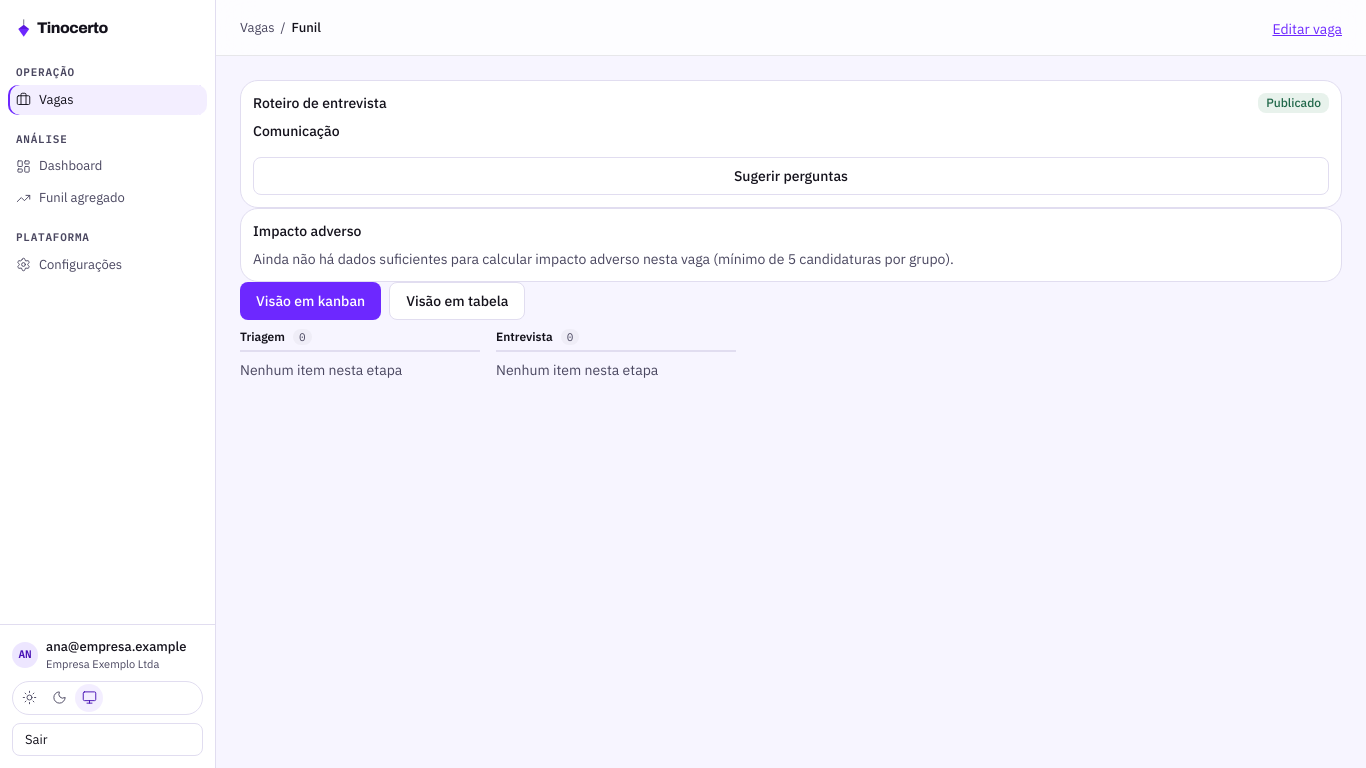
Test: FunilPage › gera e mostra perguntas agrupadas por competencia quando o roteiro esta publicado
Click the button "Sugerir perguntas". click: (791, 176)
box: top-left (253, 157), bottom-right (1329, 195)
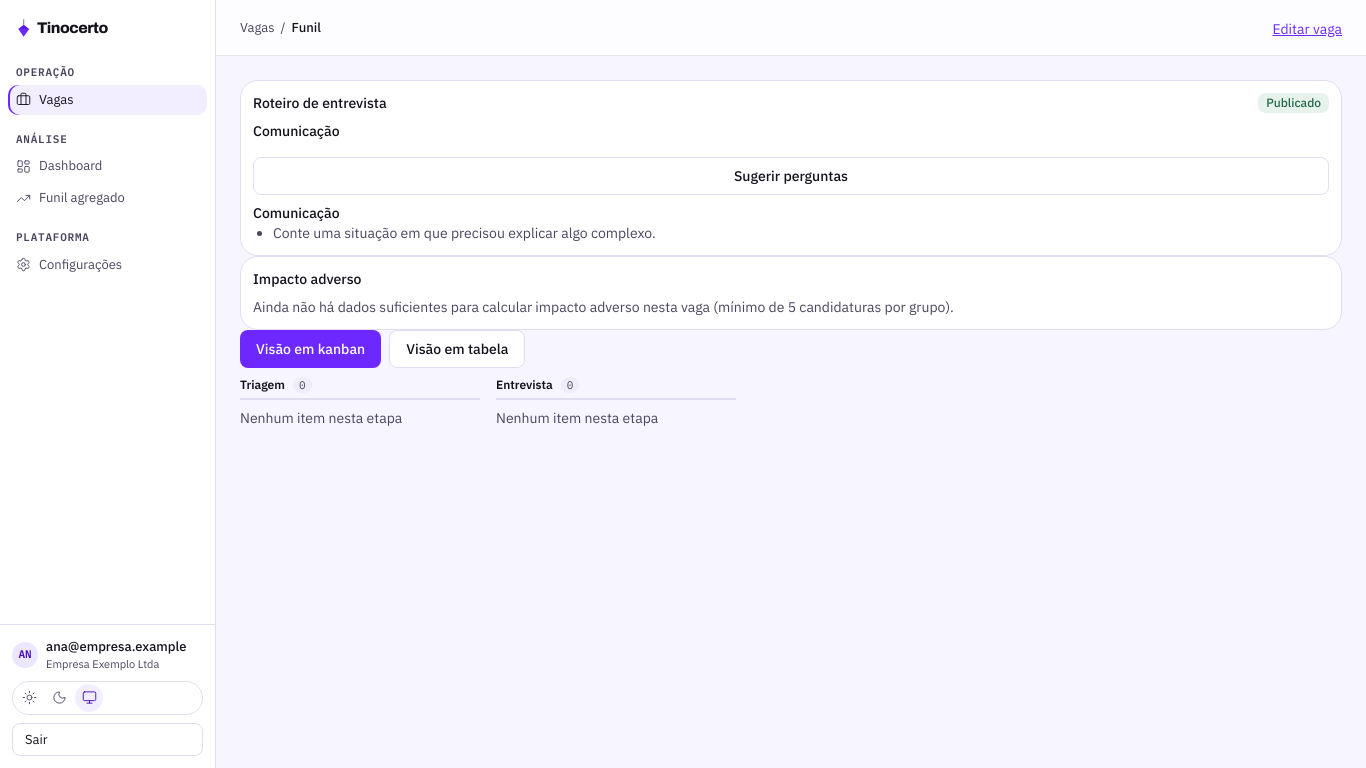
Expected: the list item "Conte uma situação em que precisou explicar algo complexo." is shown, top-left (273, 224), bottom-right (656, 242)
